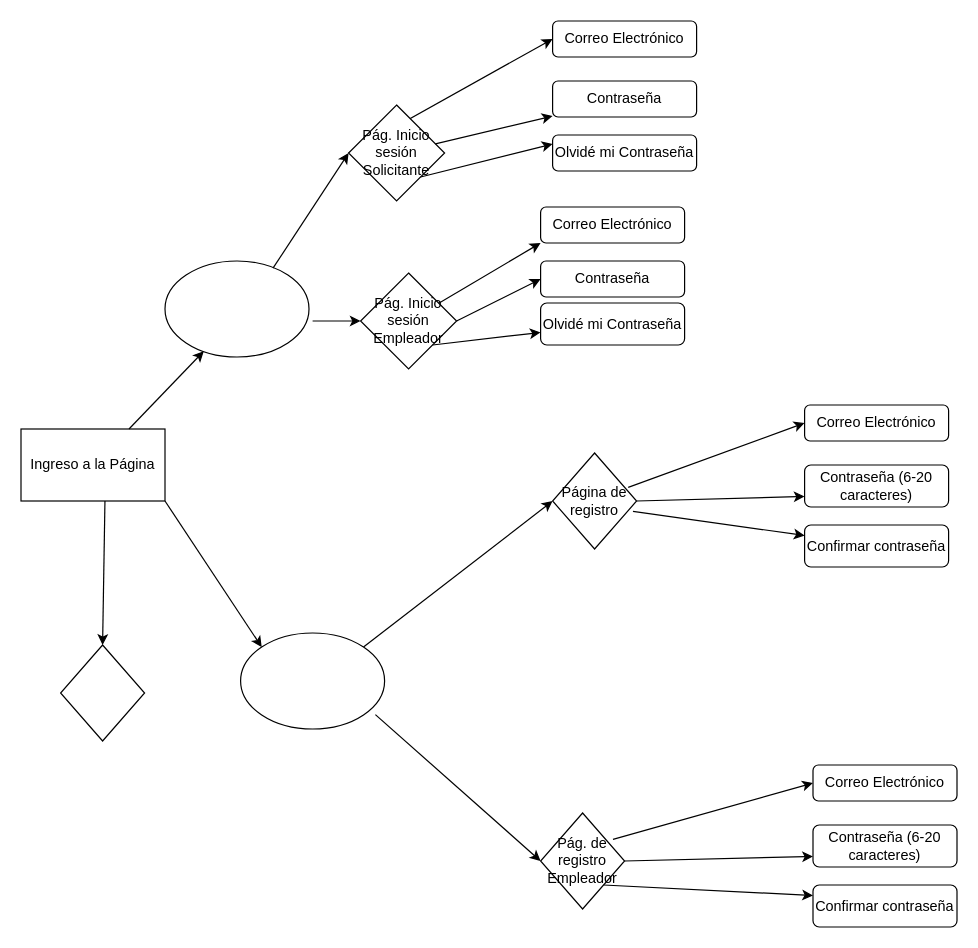
Image size: 978x948. Some labels were removed from this diagram. Each missing label, with the box of its shape:
Crea tu cuenta: (239, 632, 385, 729)
Iniciar sesión: (164, 260, 309, 357)
Pág. ingreso Admin: (59, 644, 145, 741)
